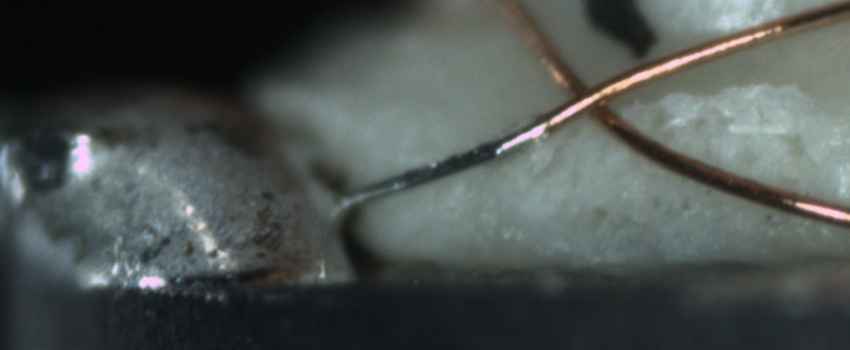CL: (546, 62, 626, 132)
DL: (698, 112, 849, 159)
TS: (344, 119, 546, 210)
